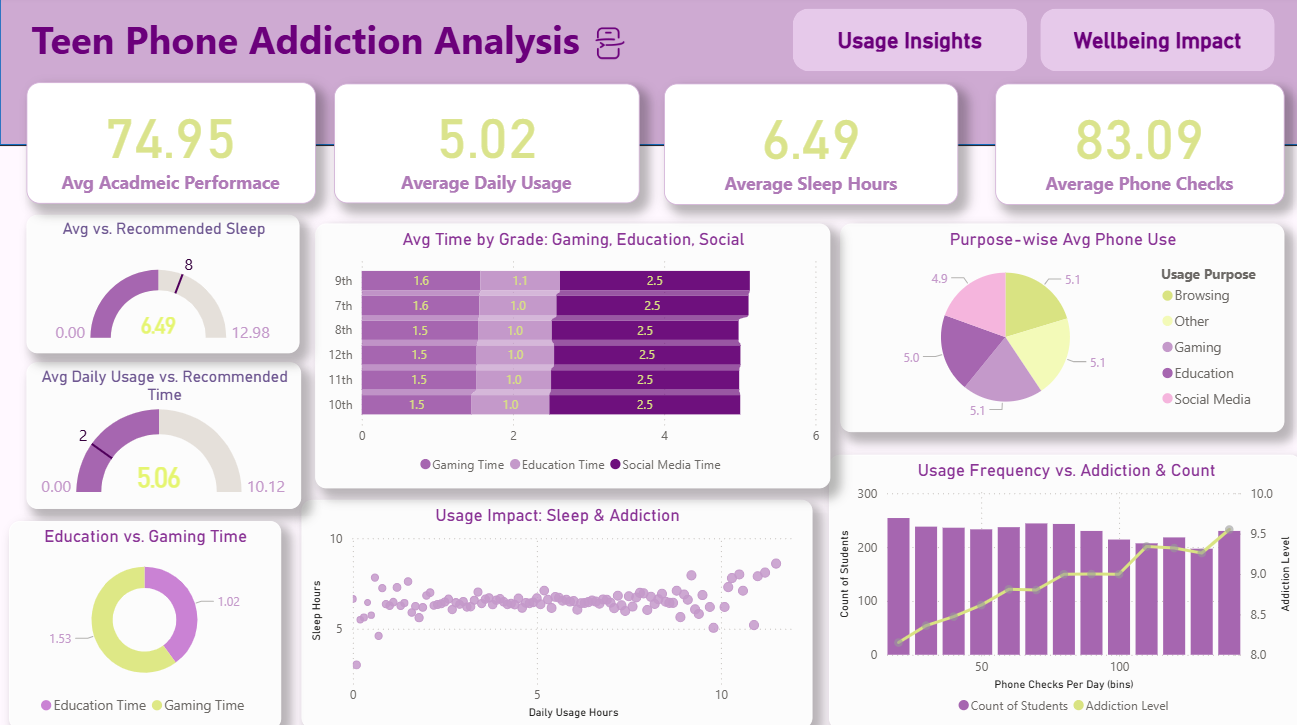

The dashboard page shown, as its layout file describes it:
{"tool":"powerbi","page":{"name":"Usage Insights","canvas":[1280,720],"ordinal":0},"visuals":[{"type":"shape","box":[0,0,1280.3,147.5],"z":0},{"type":"pieChart","title":"Purpose-wise Avg Phone Use","fields":{"Category":["teen_phone_addiction_dataset (2).Phone_Usage_Purpose"],"Y":["Avg(teen_phone_addiction_dataset (2).Rounded_Daily_Usage_Hours)"]},"box":[825.4,223.4,436.1,204.7],"z":1000},{"type":"scatterChart","title":"Usage Impact: Sleep & Addiction","fields":{"X":["teen_phone_addiction_dataset (2).Daily_Usage_Hours"],"Y":["Avg(teen_phone_addiction_dataset (2).Sleep_Hours)"],"Size":["Avg(teen_phone_addiction_dataset (2).Rounded_Addicttion_level)"]},"box":[296.5,494.6,501.3,225.1],"z":2000},{"type":"gauge","title":"Avg Daily Usage vs. Recommended Time","fields":{"Y":["Avg(teen_phone_addiction_dataset (2).Rounded_Daily_Usage_Hours)"],"TargetValue":["UsageHoursSim.Recommended Screen Time for Teens"]},"box":[27,359.8,269.5,144.2],"z":3000},{"type":"lineStackedColumnComboChart","title":"Usage Frequency vs. Addiction & Count","fields":{"Category":["teen_phone_addiction_dataset (2).Phone_Checks_Per_Day (bins)"],"Y":["CountNonNull(teen_phone_addiction_dataset (2).ID)"],"Y2":["Avg(teen_phone_addiction_dataset (2).Addiction_Level)"]},"box":[815.3,450.1,464.9,269.5],"z":4000},{"type":"barChart","title":"Avg Time by Grade: Gaming, Education, Social","fields":{"Category":["teen_phone_addiction_dataset (2).School_Grade"],"Y":["Avg(teen_phone_addiction_dataset (2).Time_on_Gaming)","Avg(teen_phone_addiction_dataset (2).Time_on_Education)","Avg(teen_phone_addiction_dataset (2).Time_on_Social_Media)"]},"box":[310,223.7,505.4,260.1],"z":5000},{"type":"card","fields":{"Values":["teen_phone_addiction_dataset (2).Average_Sleep_Hours"]},"box":[652.8,85.6,289,119.1],"z":6000},{"type":"card","fields":{"Values":["teen_phone_addiction_dataset (2).Average_Daily_Usage"]},"box":[329.1,85.6,299.7,117.7],"z":7000},{"type":"card","fields":{"Values":["teen_phone_addiction_dataset (2).Average_Phone_Checks"]},"box":[977.9,85.6,283.6,119.1],"z":8000},{"type":"donutChart","title":"Education vs. Gaming Time","fields":{"Y":["Avg(teen_phone_addiction_dataset (2).Time_on_Education)","Avg(teen_phone_addiction_dataset (2).Time_on_Gaming)"]},"box":[9.4,514.8,266.8,204.8],"z":9000},{"type":"gauge","title":"Avg vs. Recommended Sleep","fields":{"Y":["teen_phone_addiction_dataset (2).Average_Sleep_Hours"],"TargetValue":["UsageHoursSim.Recommended Sleep hours"]},"box":[27,214.3,268.2,136.1],"z":10000},{"type":"card","fields":{"Values":["UsageHoursSim.Avg Acadmeic Performace"]},"box":[26.8,84.3,283.6,119.1],"z":11000},{"type":"textbox","box":[26.8,12,655.5,91],"z":12000},{"type":"actionButton","box":[1022.1,12,230.1,61.5],"z":13000},{"type":"actionButton","box":[778.6,12,230.1,61.5],"z":14000},{"type":"image","box":[568.6,20.1,60.2,53.5],"z":15000}]}

Visuals, with their boxes in screenshot pixels (x1, y1, x2, y2), scaled from the page's 1280x720 canvas onto the 1297x725 screenshot:
shape: crop(0, 0, 1296, 149)
"Purpose-wise Avg Phone Use" pieChart: crop(836, 225, 1278, 431)
"Usage Impact: Sleep & Addiction" scatterChart: crop(300, 498, 808, 724)
"Avg Daily Usage vs. Recommended Time" gauge: crop(27, 362, 300, 508)
"Usage Frequency vs. Addiction & Count" lineStackedColumnComboChart: crop(826, 453, 1296, 724)
"Avg Time by Grade: Gaming, Education, Social" barChart: crop(314, 225, 826, 487)
card - teen_phone_addiction_dataset (2).Average_Sleep_Hours: crop(661, 86, 954, 206)
card - teen_phone_addiction_dataset (2).Average_Daily_Usage: crop(333, 86, 637, 205)
card - teen_phone_addiction_dataset (2).Average_Phone_Checks: crop(991, 86, 1278, 206)
"Education vs. Gaming Time" donutChart: crop(10, 518, 280, 724)
"Avg vs. Recommended Sleep" gauge: crop(27, 216, 299, 353)
card - UsageHoursSim.Avg Acadmeic Performace: crop(27, 85, 315, 205)
textbox: crop(27, 12, 691, 104)
actionButton: crop(1036, 12, 1269, 74)
actionButton: crop(789, 12, 1022, 74)
image: crop(576, 20, 637, 74)
